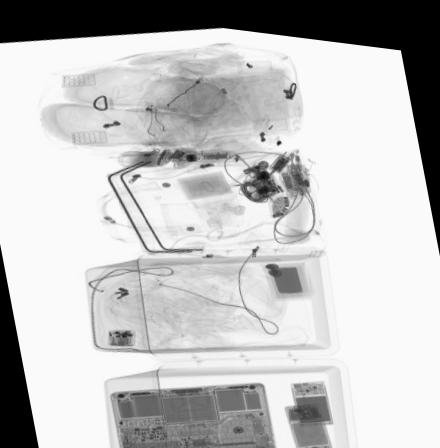Powerbank: (291, 372, 331, 420)
